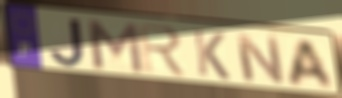A: (287, 38, 336, 90)
J: (48, 16, 88, 69)
K: (191, 28, 233, 82)
M: (83, 17, 146, 76)
N: (232, 32, 287, 87)
R: (136, 22, 190, 80)
